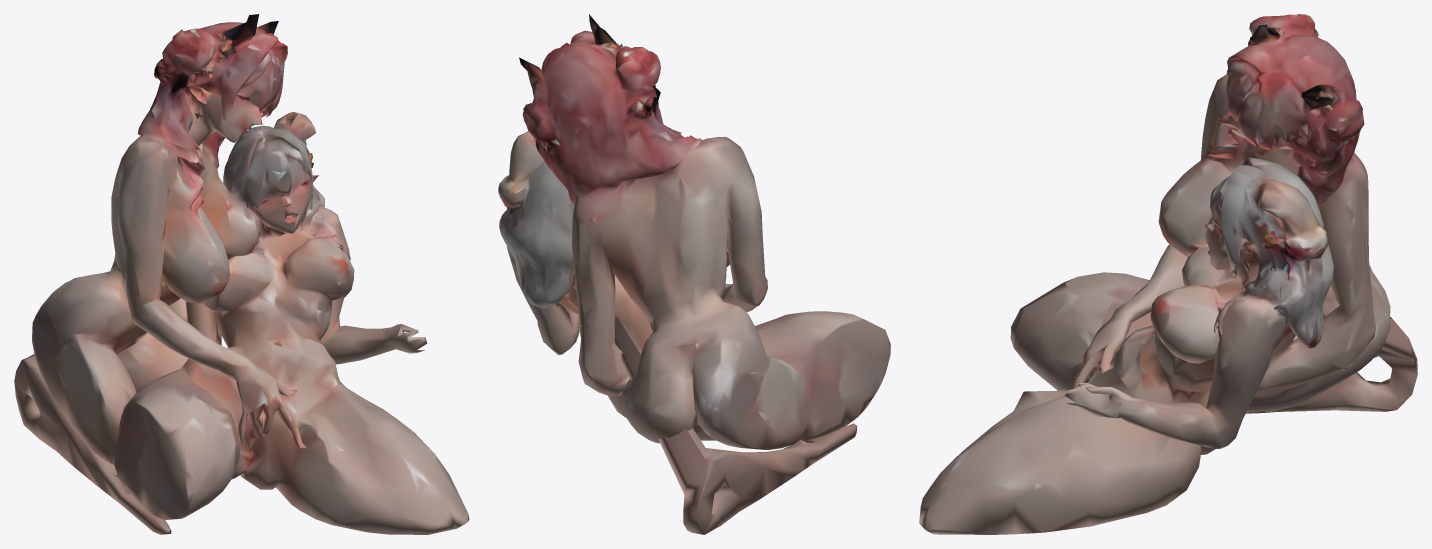
3 views of the same model, side by side, from view 1: azimuth 30°, elevation 25°; view 2: azimuth 150°, elevation 25°; view 3: azimuth 270°, elevation 25° (orthographic). The views are drawn at different scales.
Visible parts, largest first — view 1: model; view 2: model; view 3: model.
Part boxes in pixels (x1,y1,x2,y2): model: (14, 14, 469, 534); model: (498, 14, 890, 534); model: (919, 14, 1417, 534).
Size of the model in its own units: 1.03 by 1.55 by 1.48.
